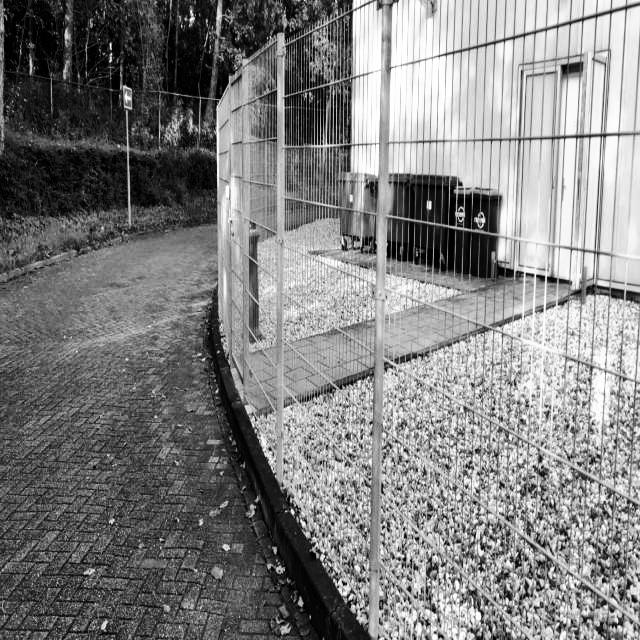fences: (213, 17, 640, 640)
